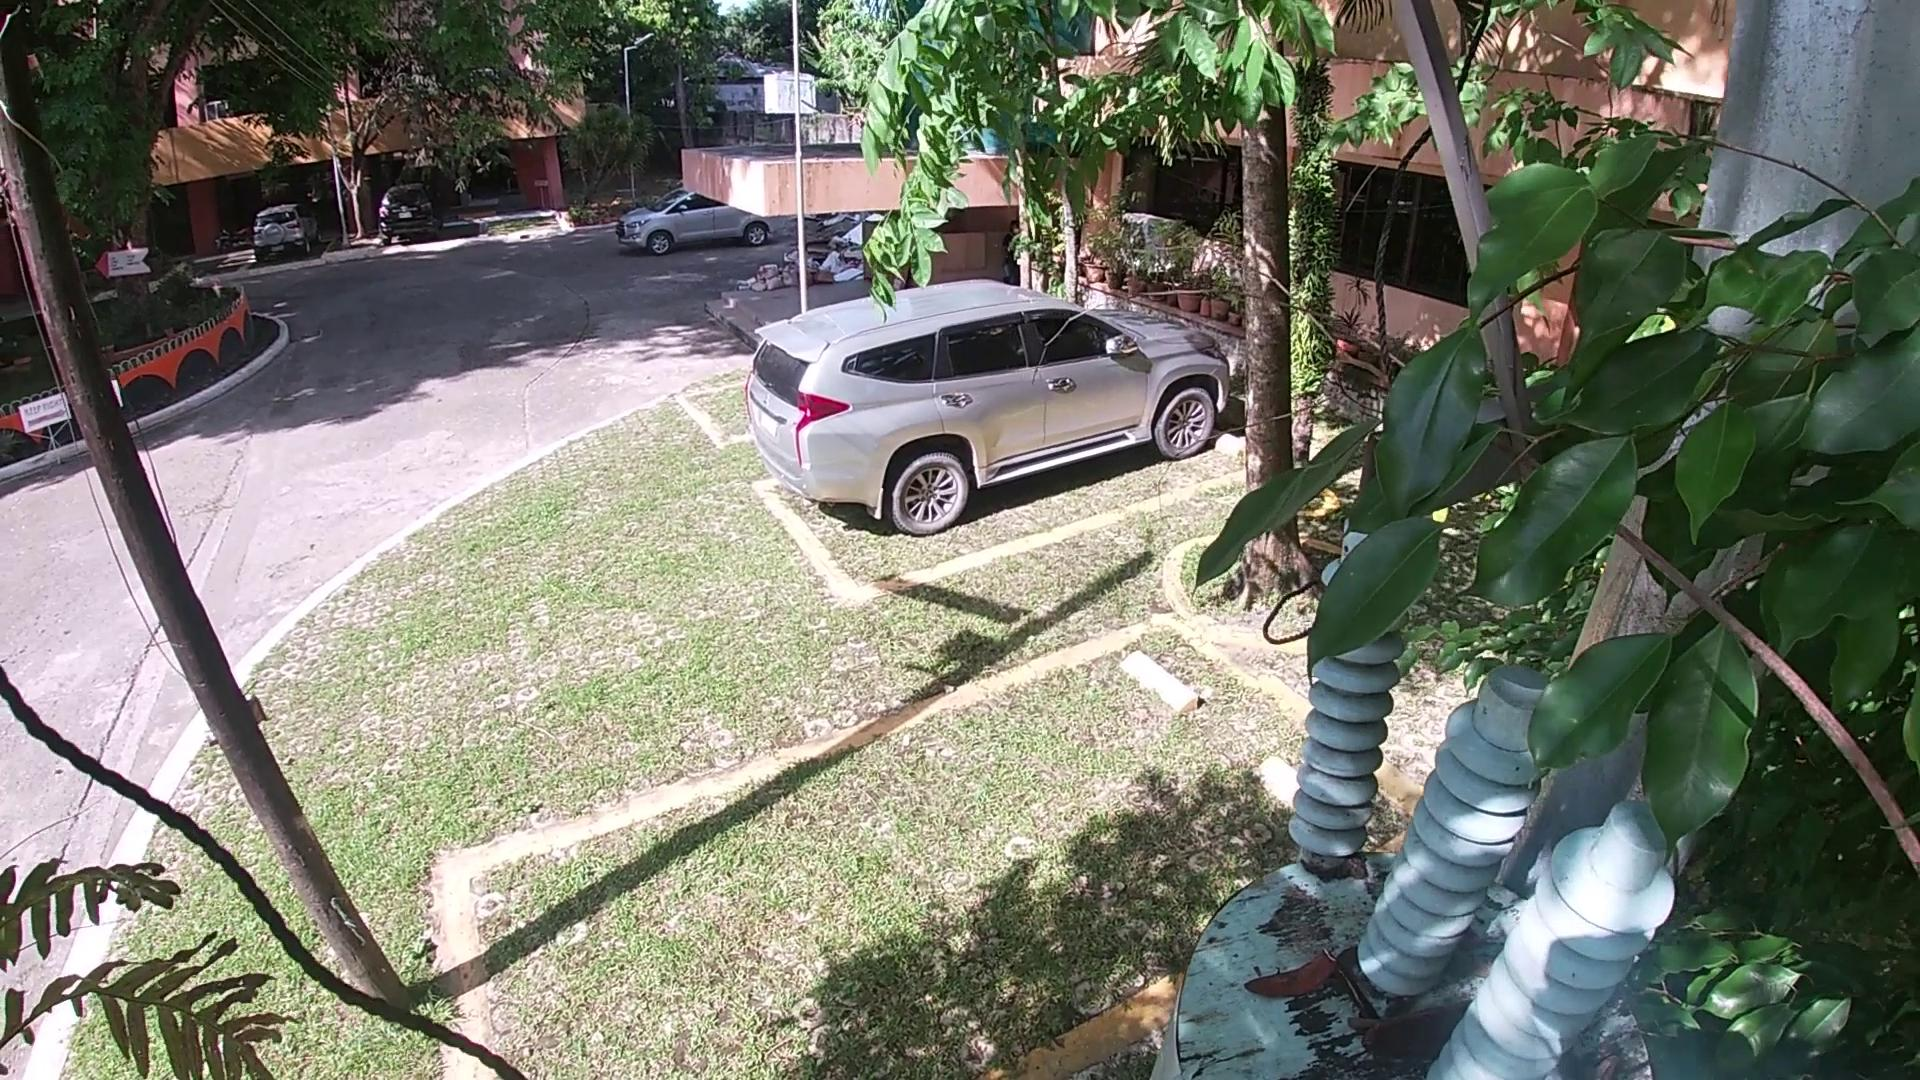leaf: (1323, 975, 1369, 1021)
mahogany fruit: (1244, 942, 1335, 1033), (1360, 972, 1445, 1058)
tree branch: (1060, 287, 1912, 894), (1439, 924, 1498, 984), (1597, 1036, 1640, 1080)
